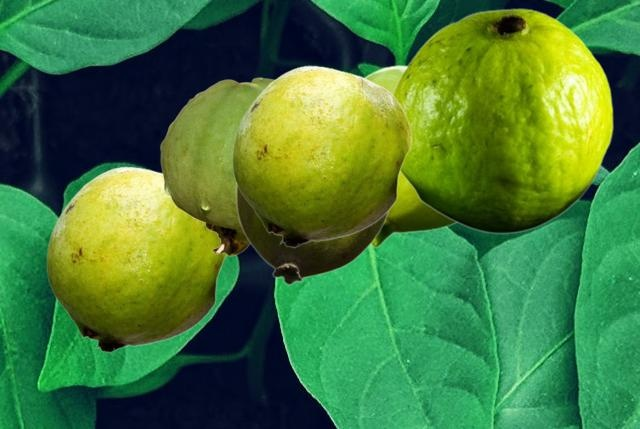guava: (391, 8, 612, 233), (46, 166, 227, 352), (232, 65, 411, 247), (160, 77, 273, 255), (364, 65, 455, 247), (235, 183, 390, 284)
